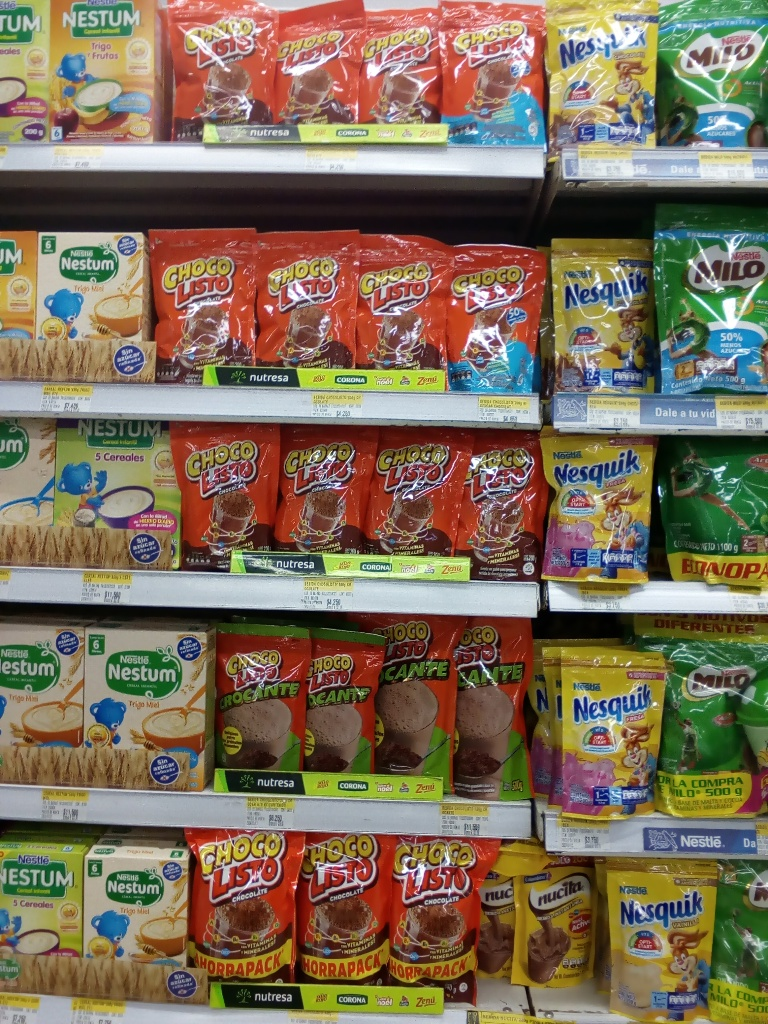COL0170102DYP25000: (305, 626, 379, 776)
COL0170102DYP50000: (452, 616, 540, 801)
COL0170103DYP44000: (391, 828, 488, 1006)
COL0170104DYP20000: (439, 0, 549, 148)
COL0170203DYP50000: (654, 637, 757, 773)
COL0170205DYP50000: (651, 190, 768, 391)
COL0170303DYP20000: (549, 238, 659, 394)
COL0170305DYP20000: (558, 646, 663, 820)
COL0170306DYP20000: (603, 870, 718, 1022)
